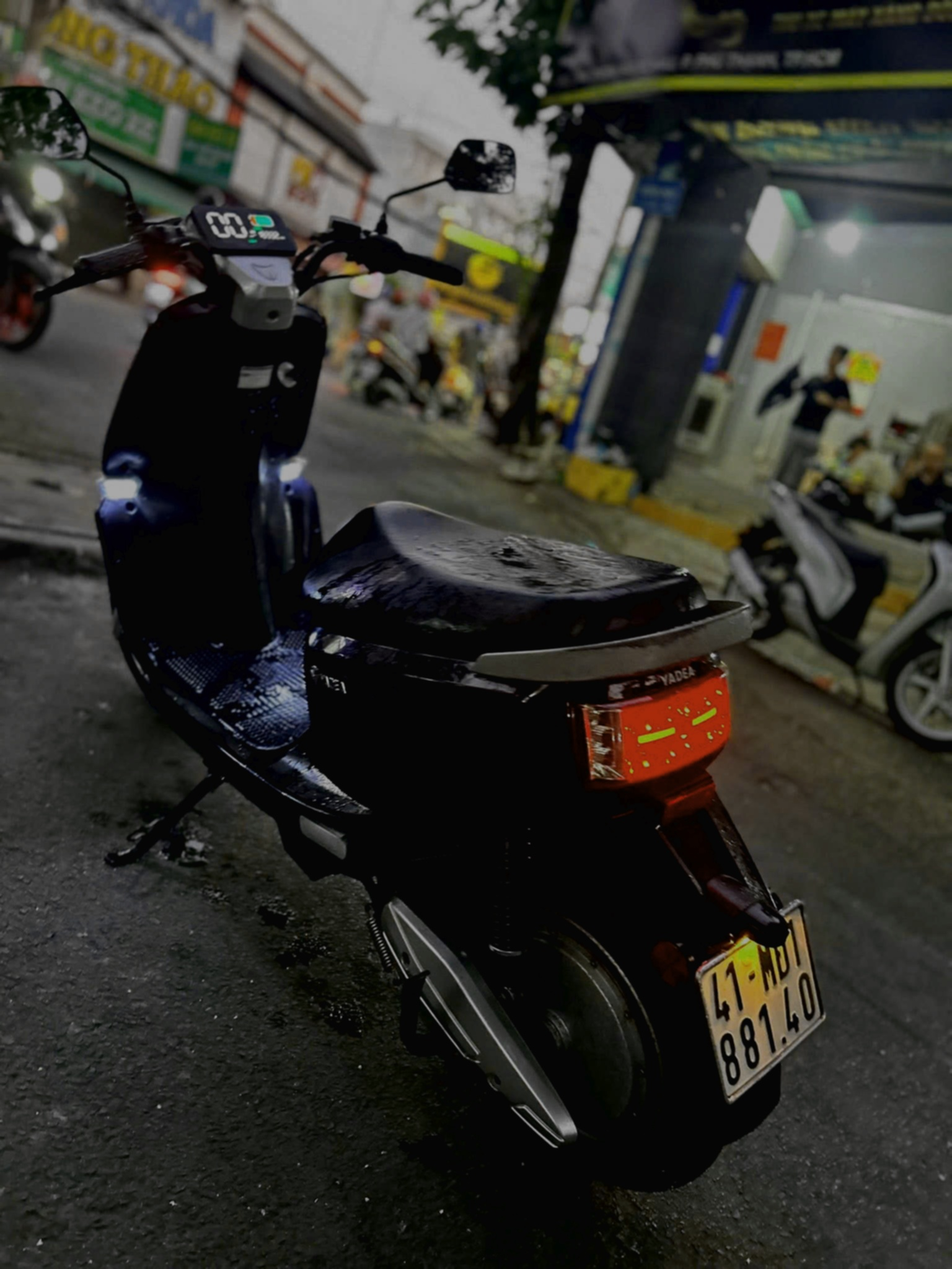Bien-so: (731, 899, 881, 1117)
